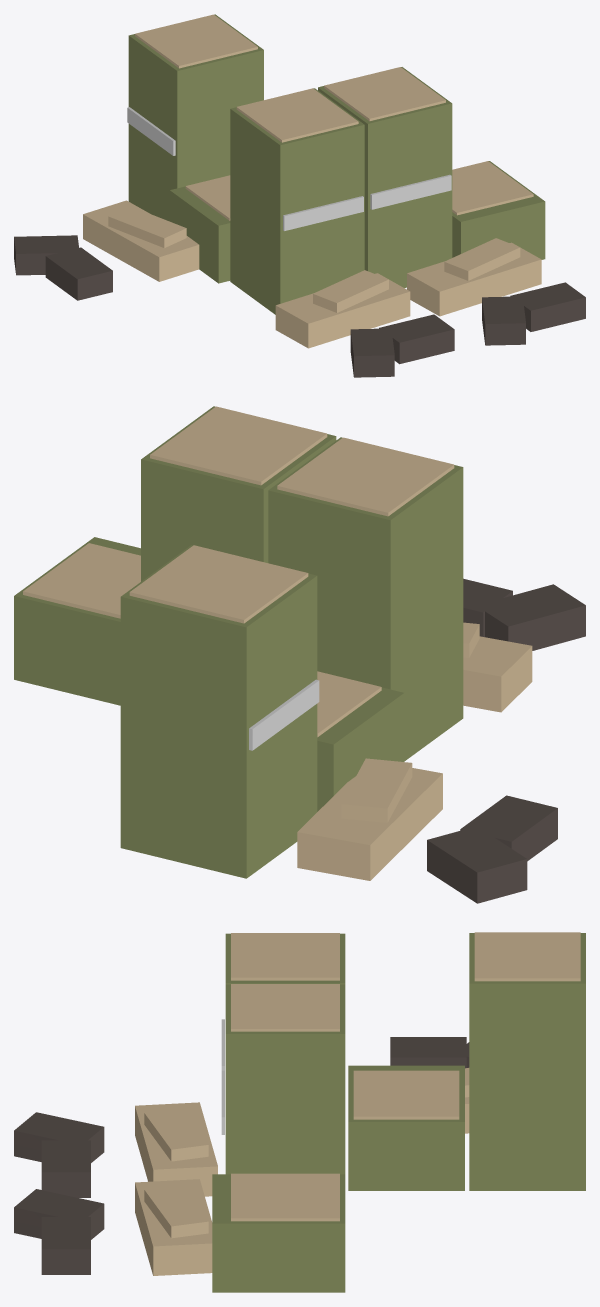
The model's file is SM_HescoEsquina_v2_Escalonado_e1_Danado_LOD1.fbx.
3 renders of one model, top to bottom at view 1: azimuth 30°, elevation 25°; view 2: azimuth 150°, elevation 25°; view 3: azimuth 270°, elevation 25°, orthographic. The views are drawn at different scales.
Visible parts, largest first — view 1: SM_hesco_piezas_v9_LOD1; view 2: SM_hesco_piezas_v9_LOD1; view 3: SM_hesco_piezas_v9_LOD1.
Part boxes in pixels (x1,y1,x2,y2): SM_hesco_piezas_v9_LOD1: [14, 14, 585, 377]; SM_hesco_piezas_v9_LOD1: [14, 406, 585, 903]; SM_hesco_piezas_v9_LOD1: [14, 932, 585, 1292].
Bounding box in the file's own units: 5.25 × 2.13 × 5.25.
